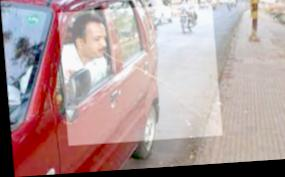spitting: (57, 5, 221, 147)
